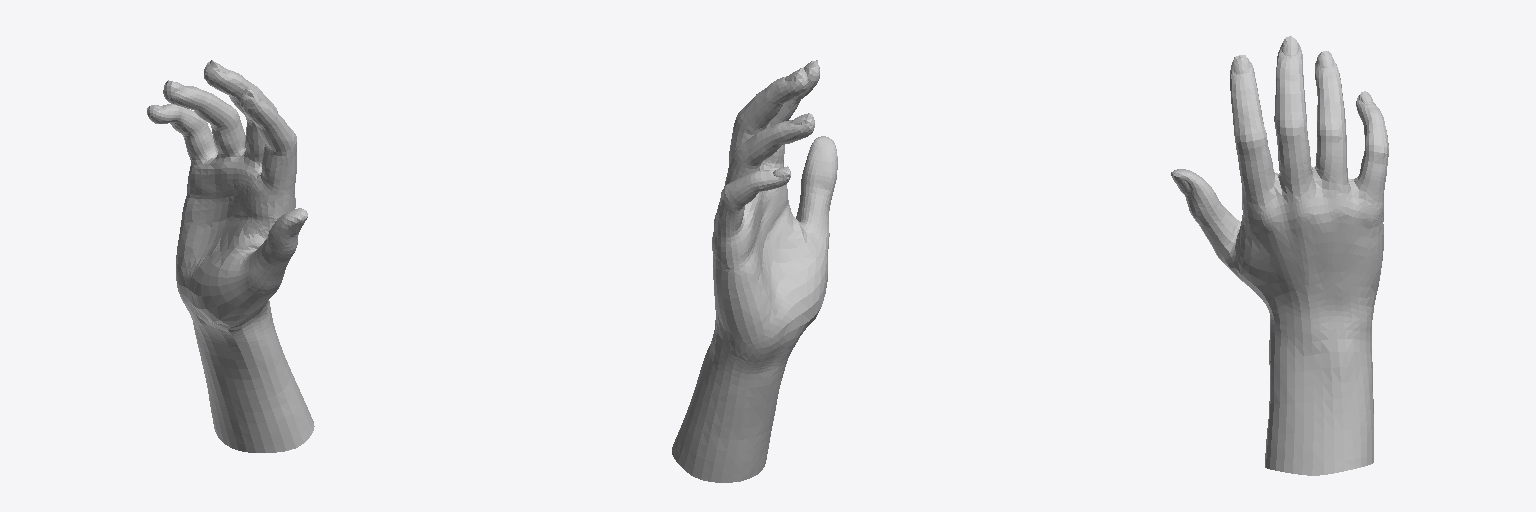
The model's file is hand.obj.
3 renders of one model, left to right at view 1: azimuth 30°, elevation 25°; view 2: azimuth 150°, elevation 25°; view 3: azimuth 270°, elevation 25°, orthographic.
Parts seen in each view (by area): view 1: the_hand; view 2: the_hand; view 3: the_hand.
Boxes of the visible parts, x1=… form: the_hand: x1=147, y1=60, x2=314, y2=452; the_hand: x1=672, y1=60, x2=837, y2=482; the_hand: x1=1171, y1=36, x2=1388, y2=475.
Size of the model in its own units: 0.8933 by 2.5 by 1.23.